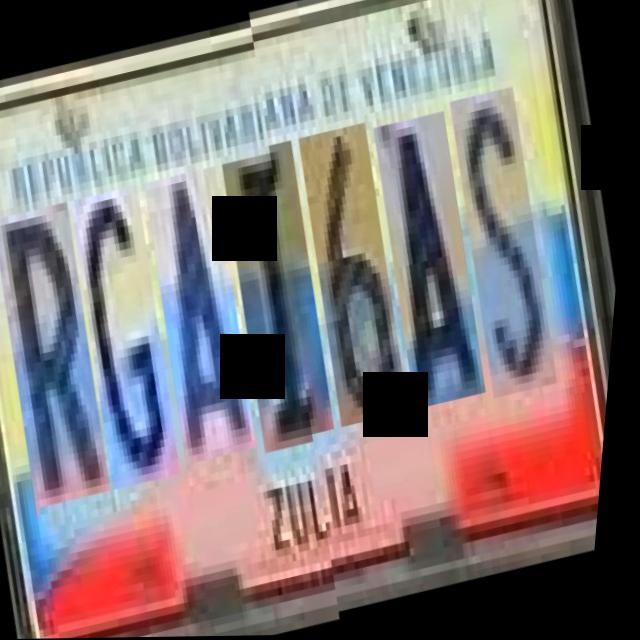6: (282, 123, 434, 428)
A: (128, 159, 281, 458), (358, 111, 510, 411)
G: (54, 177, 205, 483)
I: (205, 140, 360, 447)
R: (0, 194, 136, 501)
S: (432, 87, 583, 400)
